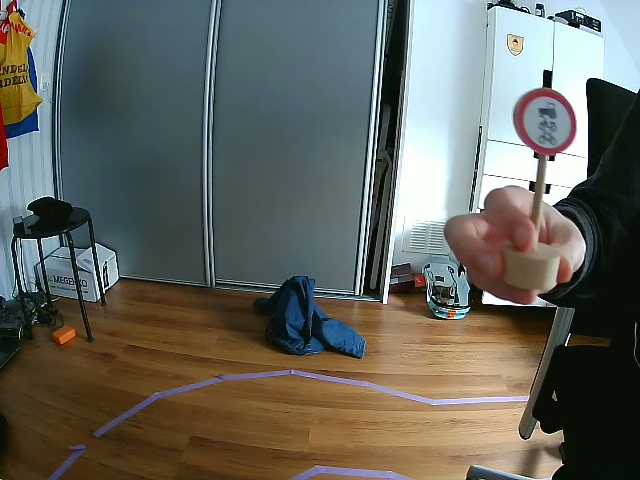fietspad: (514, 88, 577, 156)
